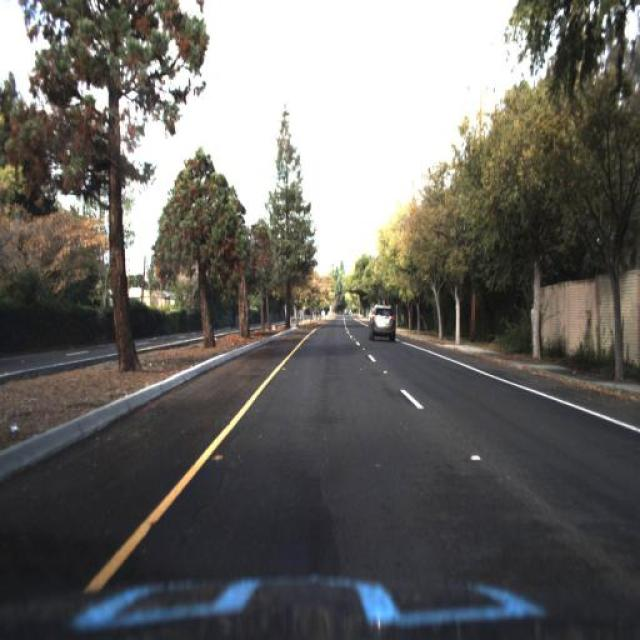car: (368, 302, 398, 343)
